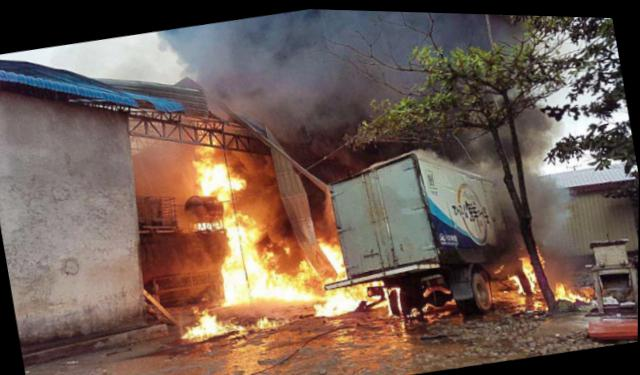fire: (209, 196, 264, 305), (188, 119, 250, 203), (258, 259, 323, 307), (312, 276, 381, 312), (185, 305, 238, 339), (314, 234, 348, 275), (525, 255, 540, 288)
smoke: (161, 4, 440, 114), (478, 93, 579, 245), (250, 80, 371, 140), (126, 140, 192, 200), (436, 10, 499, 51), (372, 76, 413, 107)
